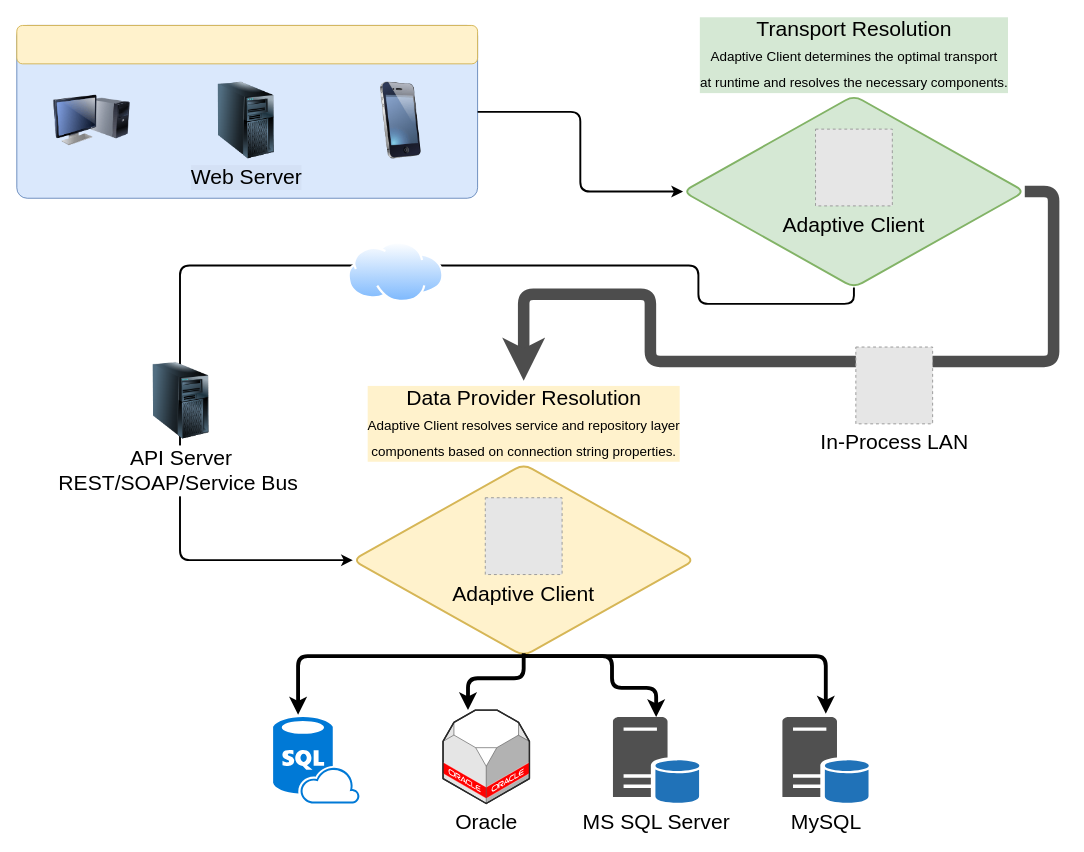
This 1084x852 diagram has some shape labels left out. Grey dashed boxes stand in for pictures. The centre of each missing label's shape, as x and y in pixels:
Cloud Provider: point 316,760
Desktop: point 91,120
HTTP: point 396,271
Mobile: point 400,120
Your Application: point 247,44
